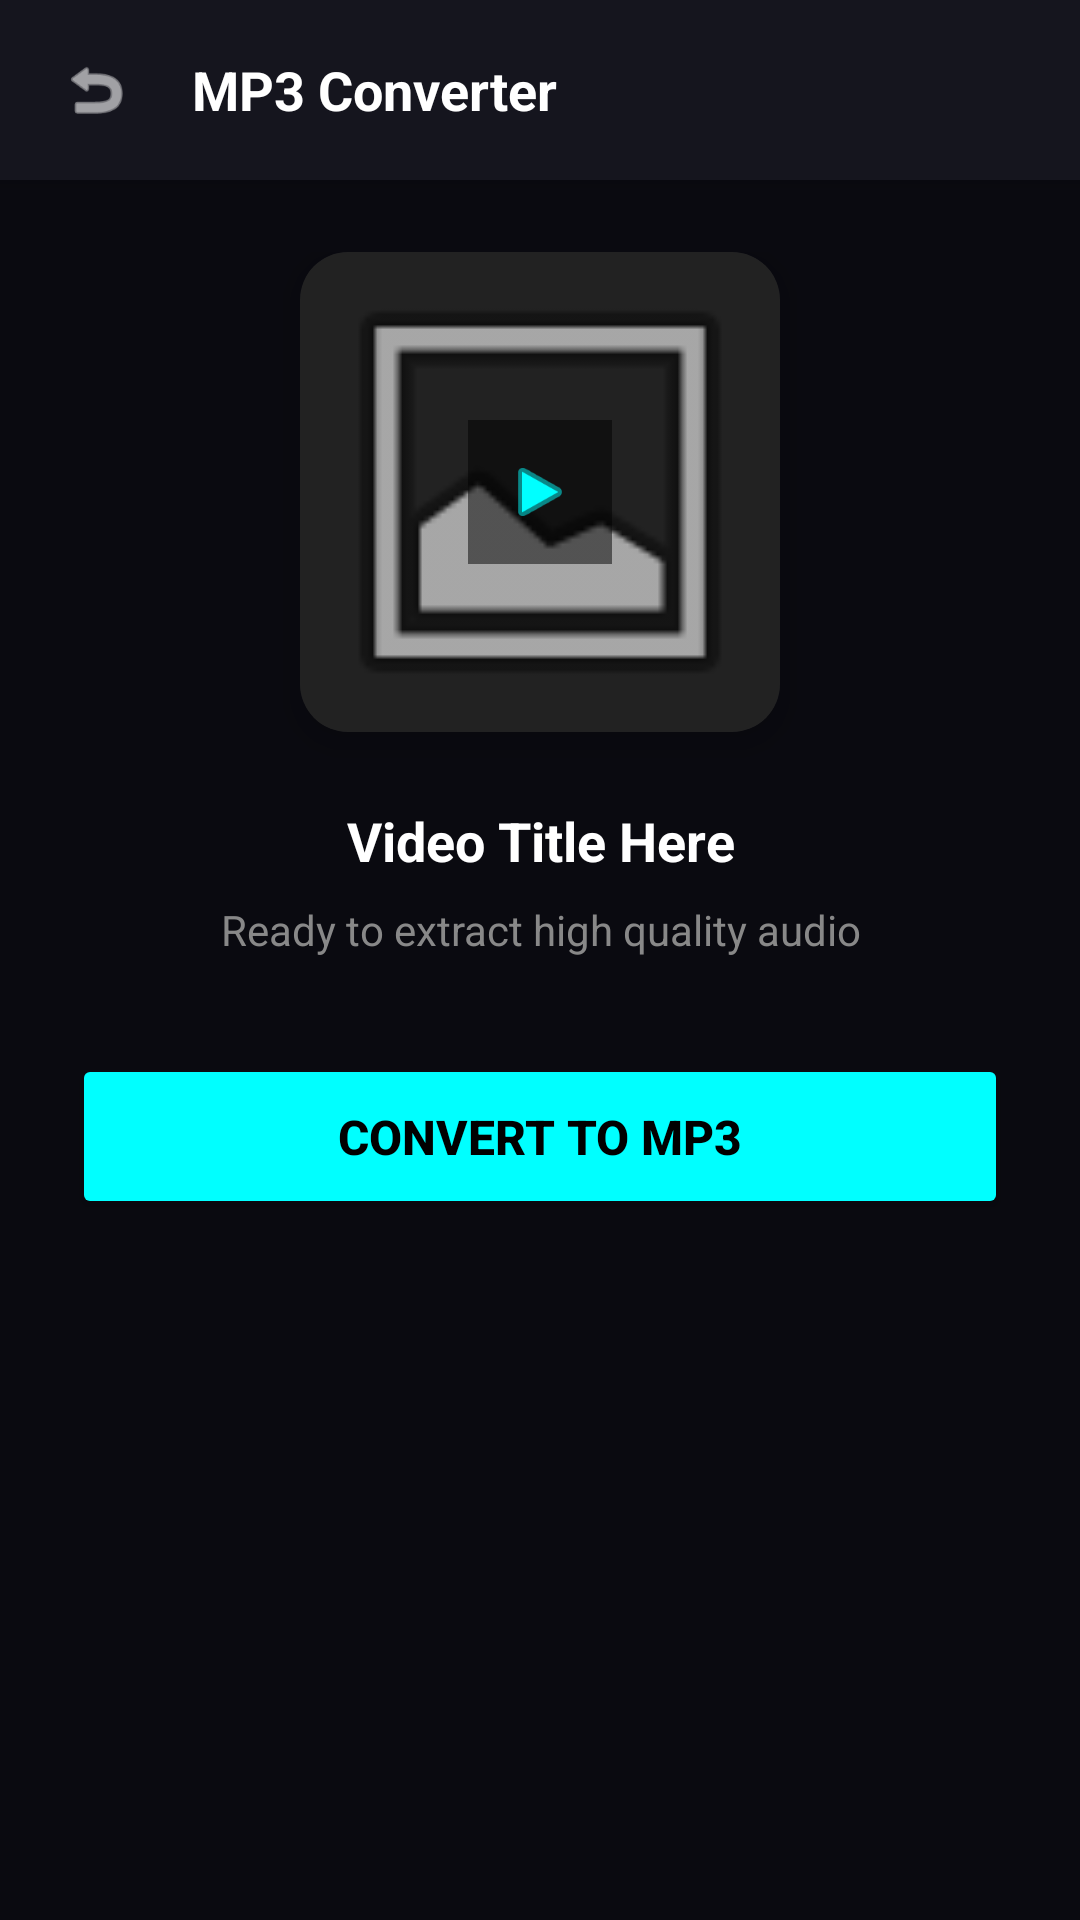

Screen size 1080x1920. Icon name, then its center in pixels as (x,y):
revert: (97,90)
